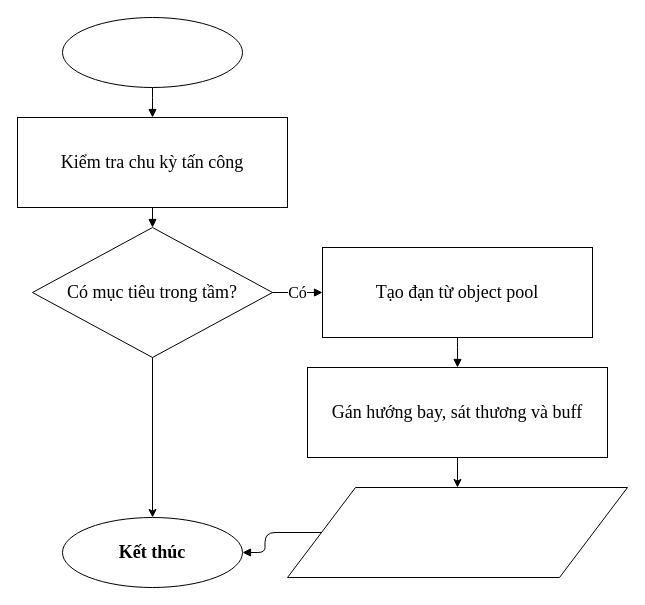
The diagram is 645 pixels wide and 605 high, and some of its shapes have lost their labels. The centre of each missing label's shape, as x and y in pixels:
Bắt đầu: pixel 152 52
Xuất đạn và gây sát thương lên enemy: pixel 457 532
